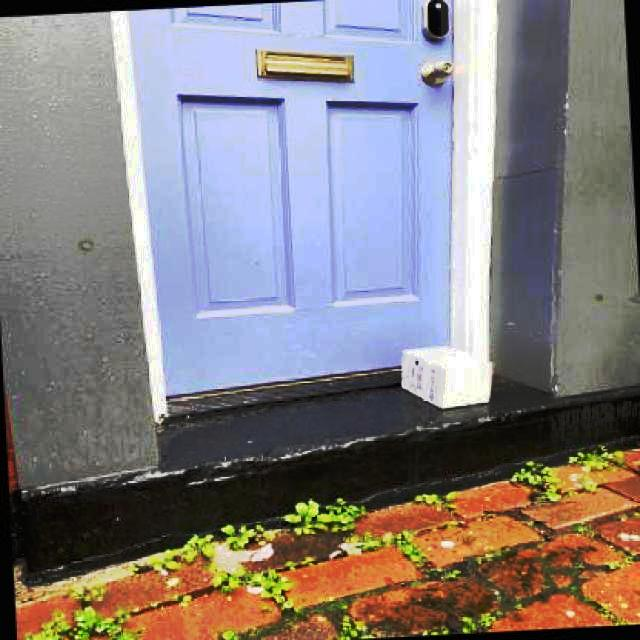Box: (395, 339, 500, 413)
